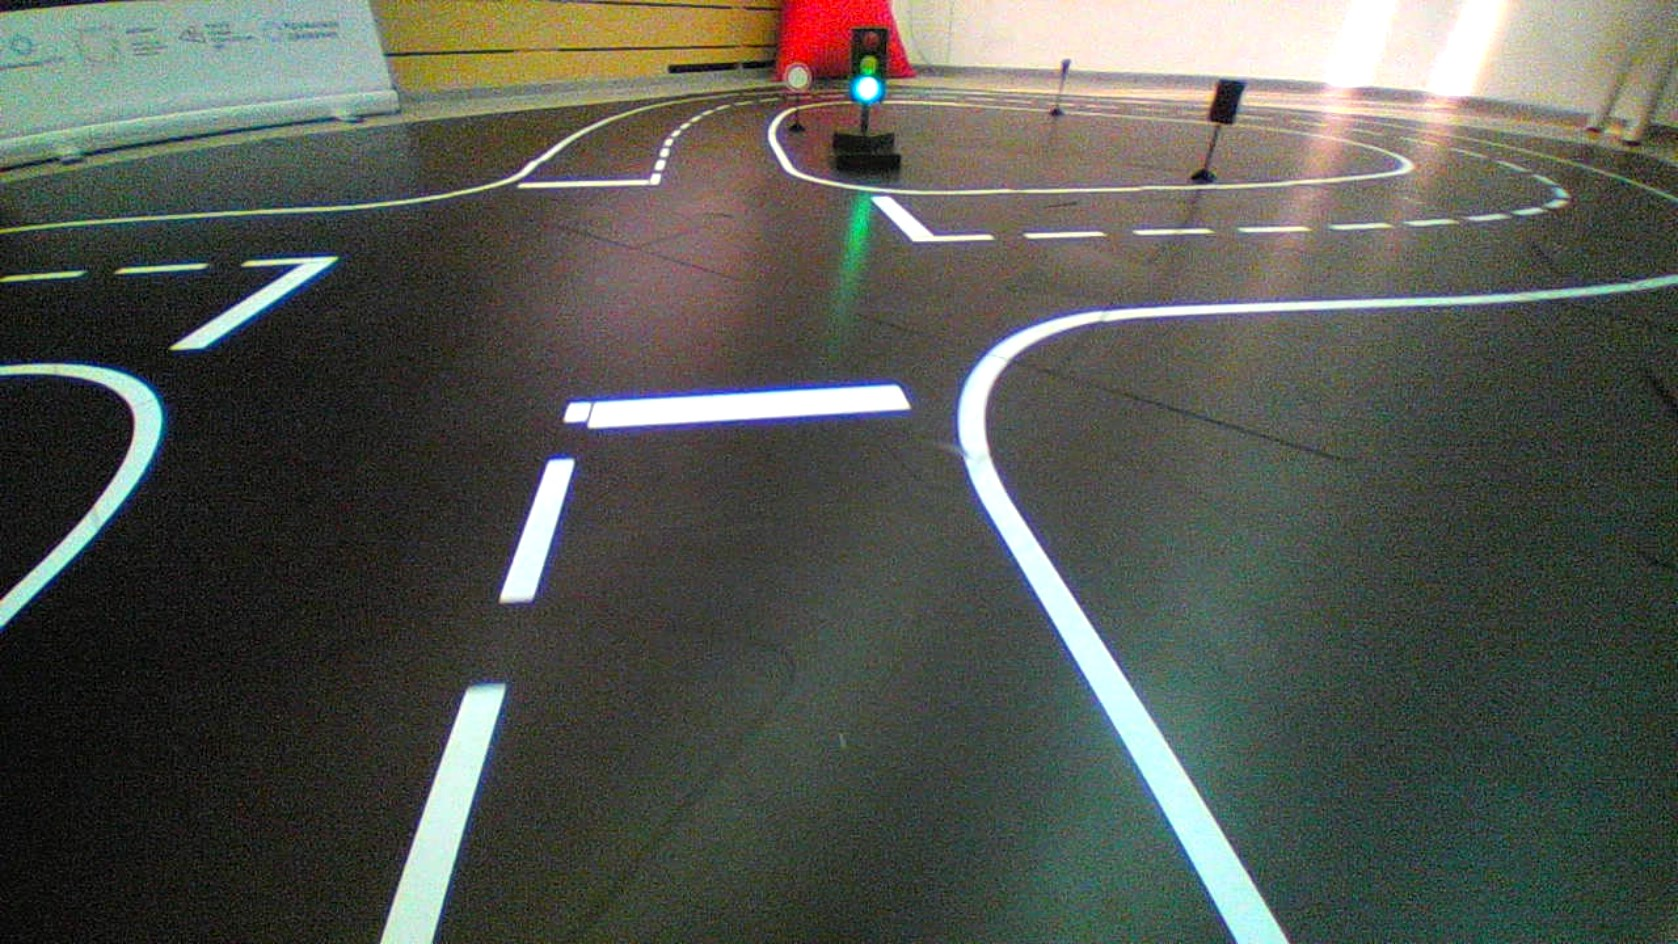trafficlight: (849, 27, 889, 103)
